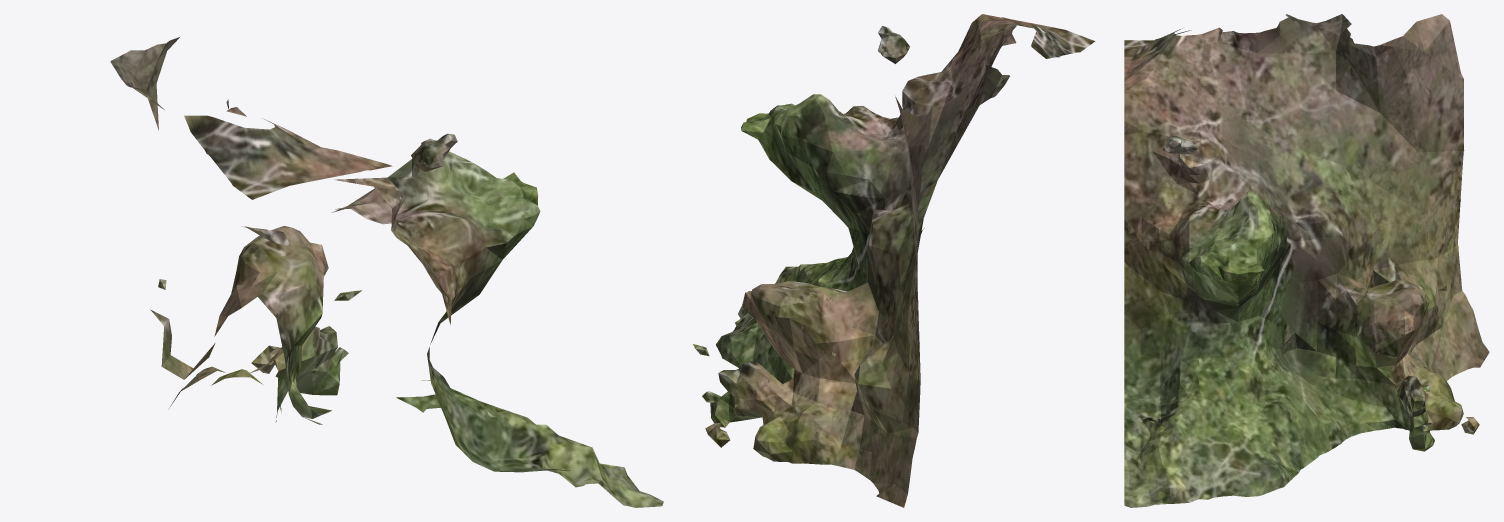
The picture shows the model from 3 angles, left to right: view 1: azimuth 30°, elevation 25°; view 2: azimuth 150°, elevation 25°; view 3: azimuth 270°, elevation 25°; orthographic projection. The views are drawn at different scales.
Size of the model in its own units: 2.91 by 2.95 by 2.89.
Materials: 4 (4 with a texture image).
